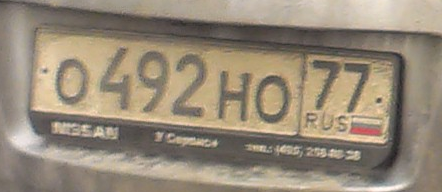character: (173, 51, 213, 123), (94, 45, 135, 114), (135, 45, 172, 118), (254, 70, 294, 129), (215, 68, 255, 125), (52, 55, 92, 110), (341, 58, 376, 118), (307, 58, 341, 113)
